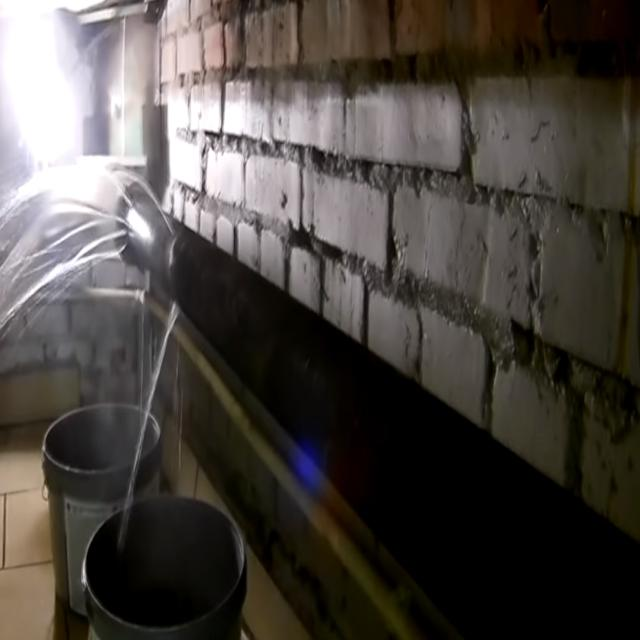leak: (0, 166, 175, 337), (118, 302, 180, 552)
